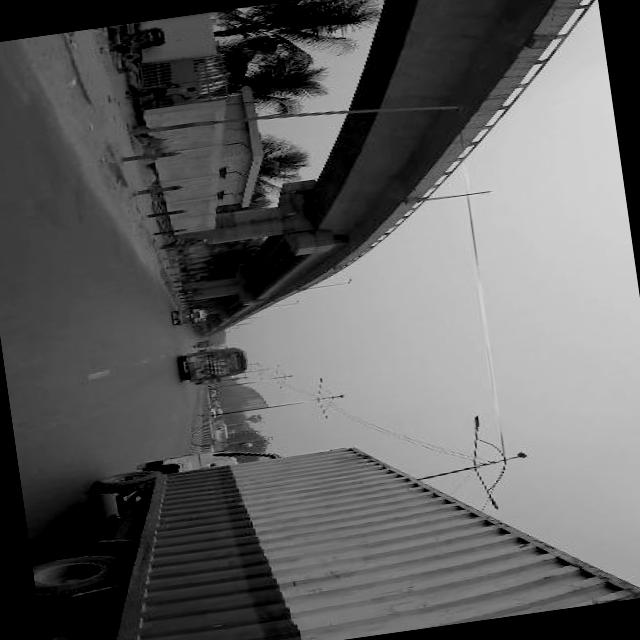bus: (181, 344, 254, 383), (199, 338, 214, 347)
motorcycle: (173, 304, 209, 326), (194, 342, 206, 347)
truck: (24, 393, 640, 640), (212, 421, 230, 442)
